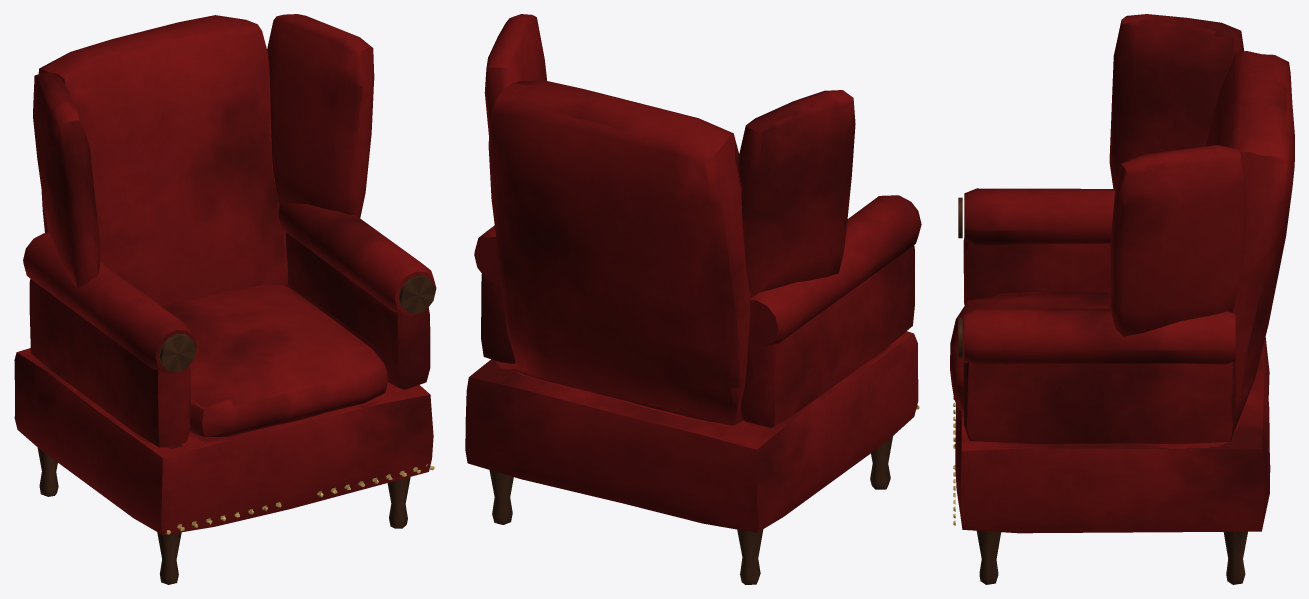
File: Armchair.fbx
The picture shows the model from 3 angles, left to right: view 1: azimuth 30°, elevation 25°; view 2: azimuth 150°, elevation 25°; view 3: azimuth 270°, elevation 25°; orthographic projection. The views are drawn at different scales.
Parts seen in each view (by area): view 1: Armchair; view 2: Armchair; view 3: Armchair.
Boxes of the visible parts, x1,y1,x2,y2 form: Armchair: [14, 14, 436, 584]; Armchair: [465, 14, 921, 584]; Armchair: [950, 14, 1294, 584].
Bounding box in the file's own units: 0.906 × 1.18 × 0.8385.
